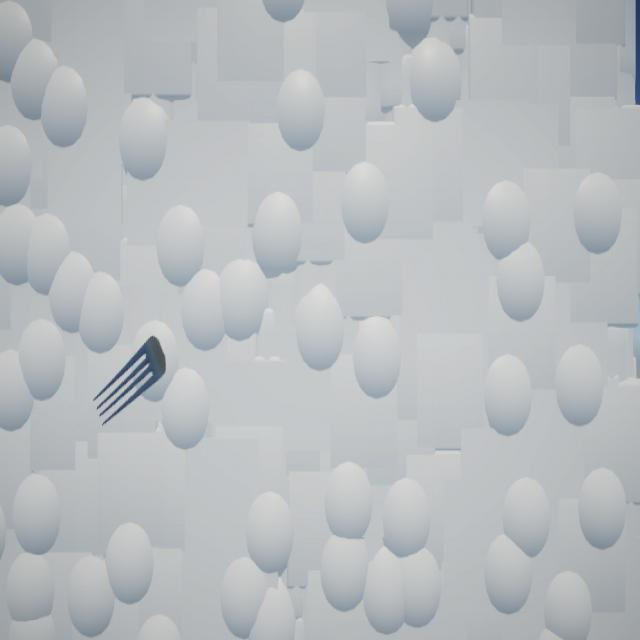top_folk: (94, 337, 167, 426)
